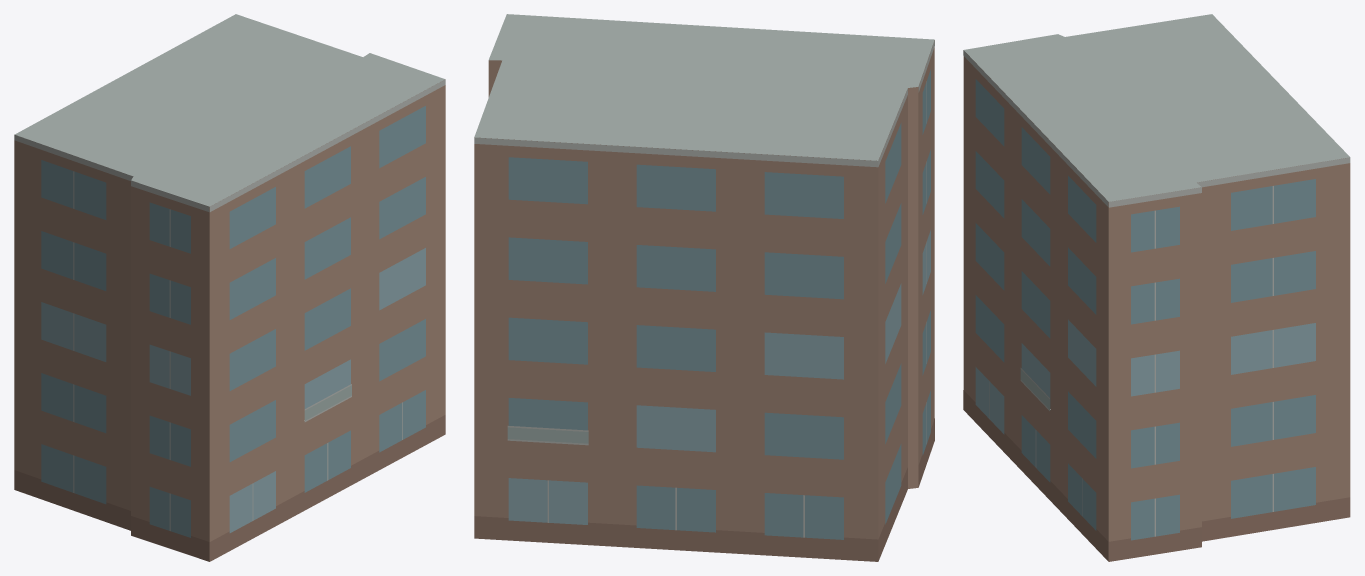
Rendered from survey-upis-32757386.glb.
3 renders of one model, left to right at view 1: azimuth 30°, elevation 25°; view 2: azimuth 150°, elevation 25°; view 3: azimuth 270°, elevation 25°, orthographic. The views are drawn at different scales.
Parts seen in each view (by area): view 1: survey-upis-32757386.tmp; view 2: survey-upis-32757386.tmp; view 3: survey-upis-32757386.tmp.
Part boxes in pixels (x1,y1,x2,y2): survey-upis-32757386.tmp: (14, 14, 445, 561); survey-upis-32757386.tmp: (474, 14, 934, 561); survey-upis-32757386.tmp: (963, 14, 1350, 561).
Size of the model in its own units: 17.08 by 15.25 by 14.86.
